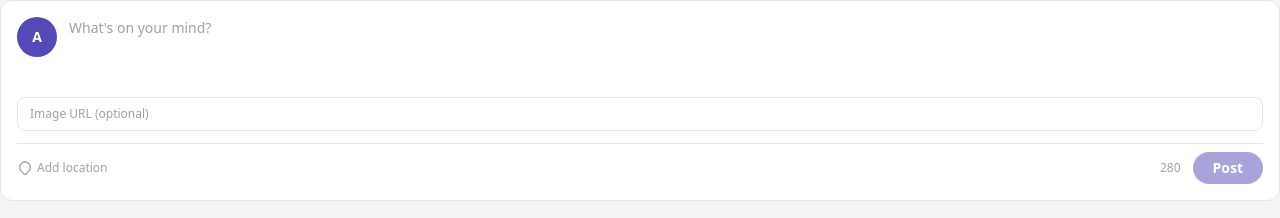
Scenario: ComposeBox › decrements the character counter as the user types
Note: Simulate typing into the textarea
In the text box with test id "compose-textarea": (666, 51) [69,17,1263,85], type "1234567890"
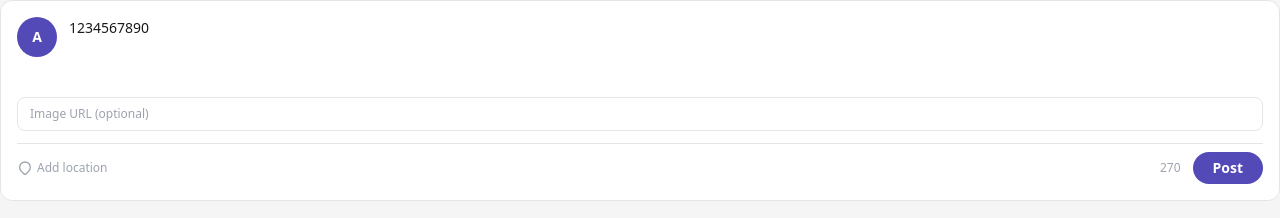
Check: the text with test id "char-counter" reads "270", box [1160,159,1180,176]
